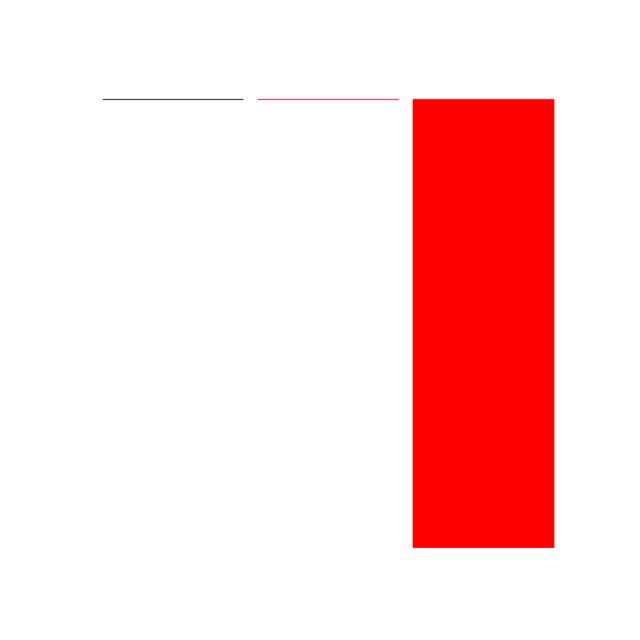Four price doji: (102, 96, 244, 103), (257, 96, 395, 103)
